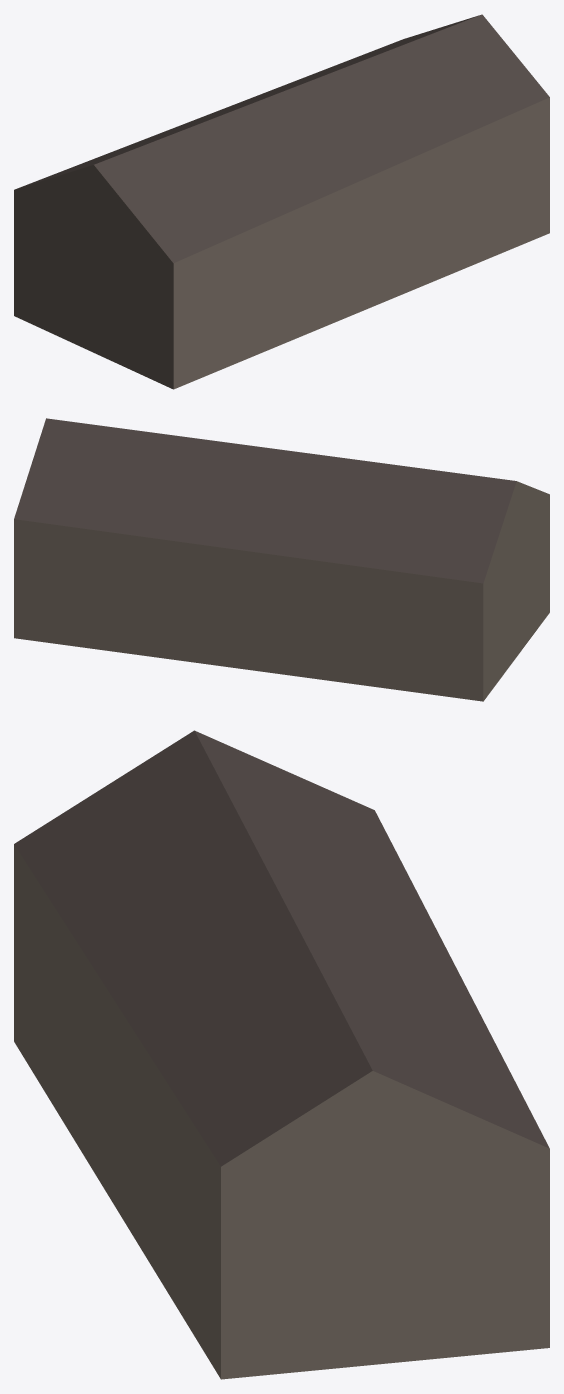
3 views of the same model, one above another, from view 1: azimuth 30°, elevation 25°; view 2: azimuth 150°, elevation 25°; view 3: azimuth 270°, elevation 25° (orthographic). The views are drawn at different scales.
Parts seen in each view (by area): view 1: HP-w505649231; view 2: HP-w505649231; view 3: HP-w505649231.
Boxes of the visible parts, box(x1,y1,x2,y2) form: HP-w505649231: box(14, 14, 549, 389); HP-w505649231: box(14, 418, 549, 701); HP-w505649231: box(14, 730, 549, 1379).
Size of the model in its own units: 24.22 by 8.94 by 14.76.
